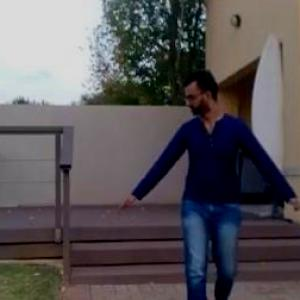land: (102, 56, 299, 299)
